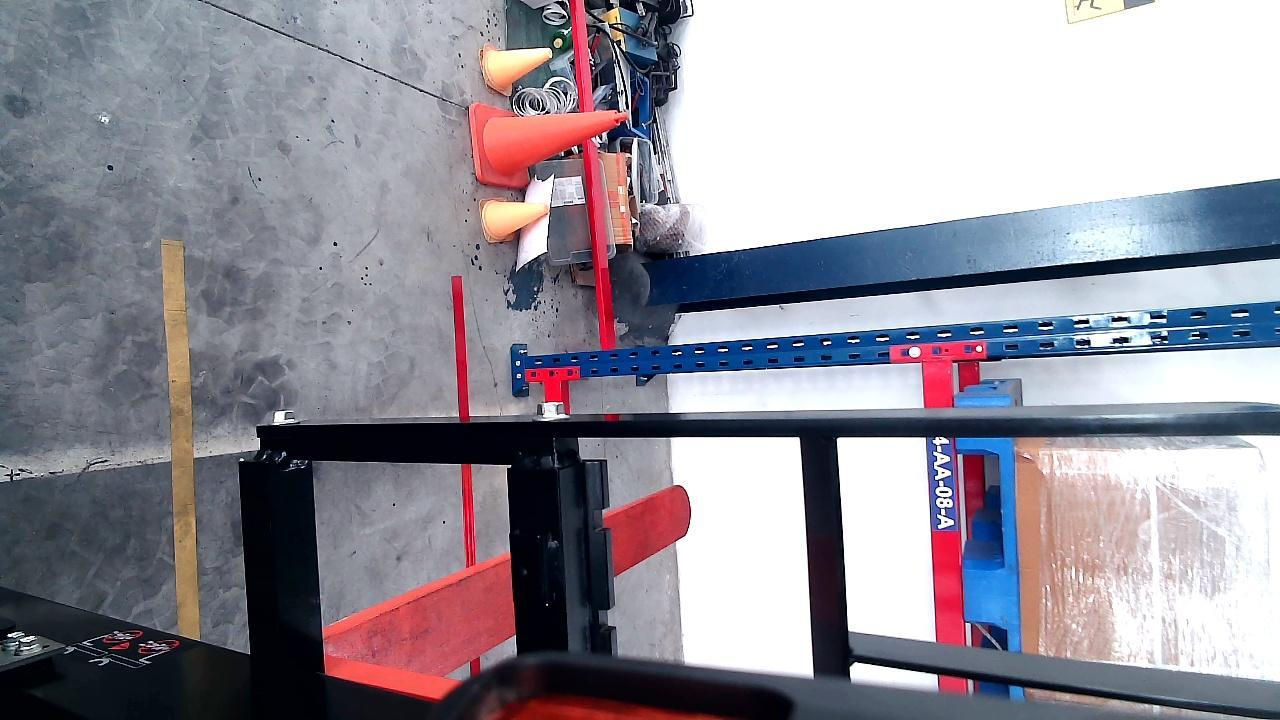red_line: (450, 280, 479, 562)
yellow_line: (168, 235, 199, 641)
